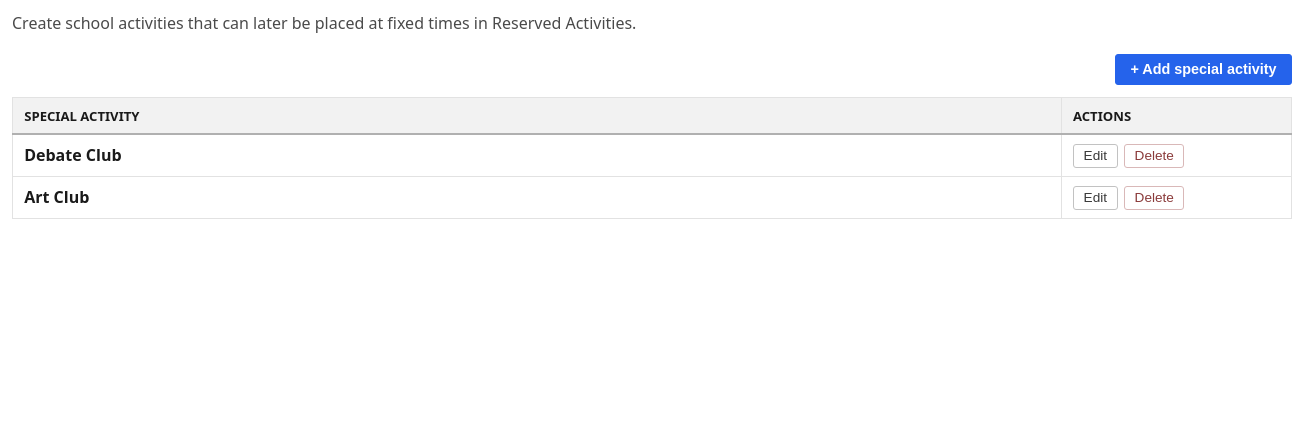
it: SpecialActivitiesPanel › maps DUPLICATE_SPECIAL_ACTIVITY to a clear inline message
The image size is (1304, 443).
Expected: the column heading "Debate Club" is shown, x1=12 y1=134 x2=1061 y2=177
Click the button "+ Add special activity" at (1204, 69), box x1=1115 y1=54 x2=1292 y2=85
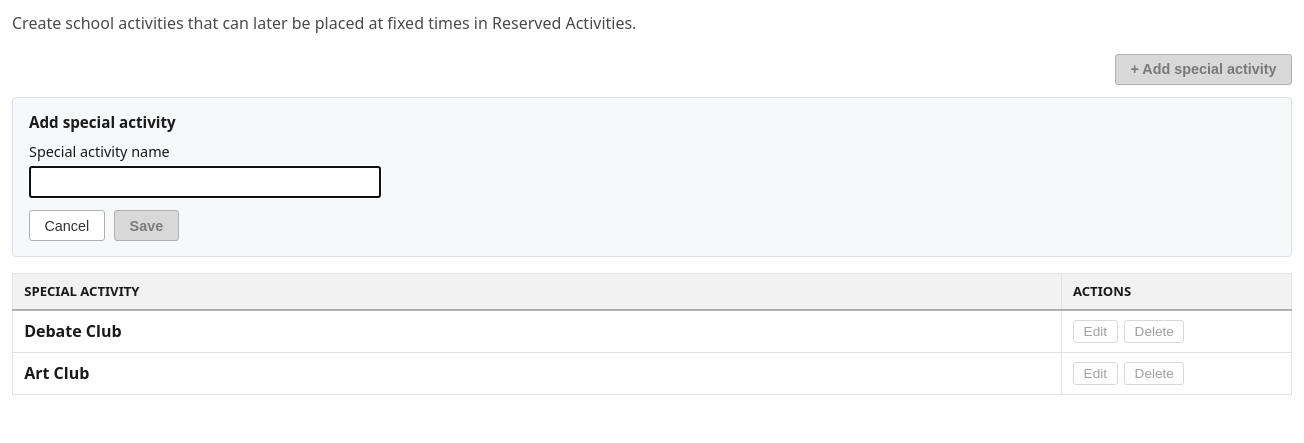
Type "Debate Club" into the field labelled "Special activity name" at (205, 182), box x1=29 y1=166 x2=381 y2=198
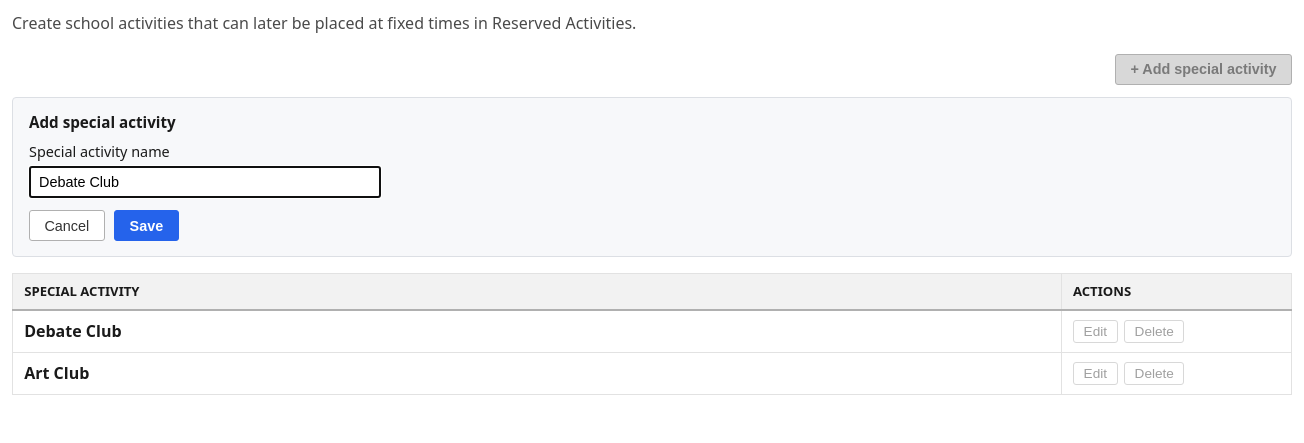
Click the button "Save" at (146, 226), box x1=114 y1=210 x2=179 y2=241
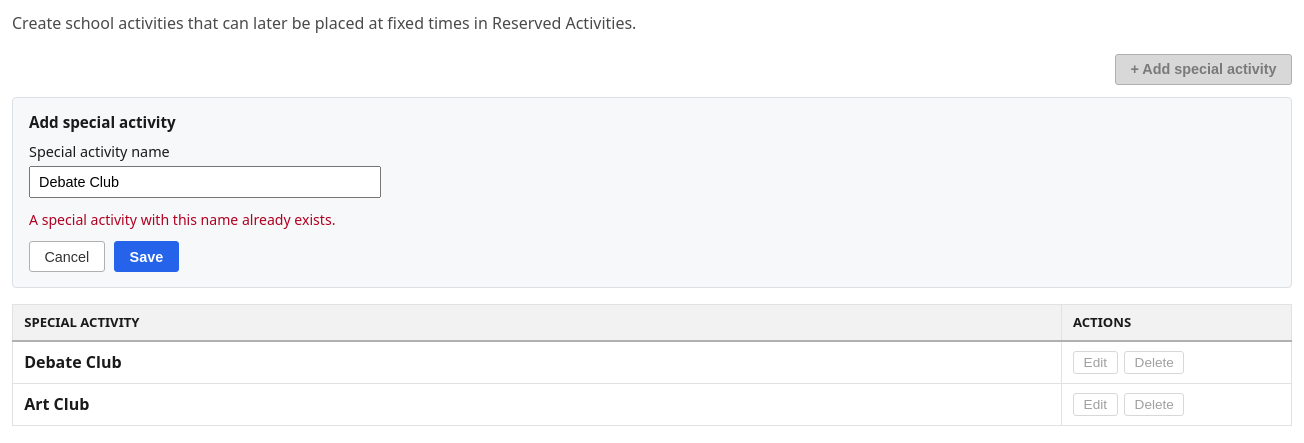
Expected: the text "A special activity with this name already exists." is shown, x1=29 y1=210 x2=336 y2=229
